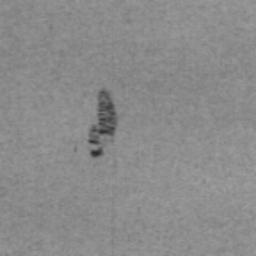Secondary rust skin: (88, 89, 118, 158)
